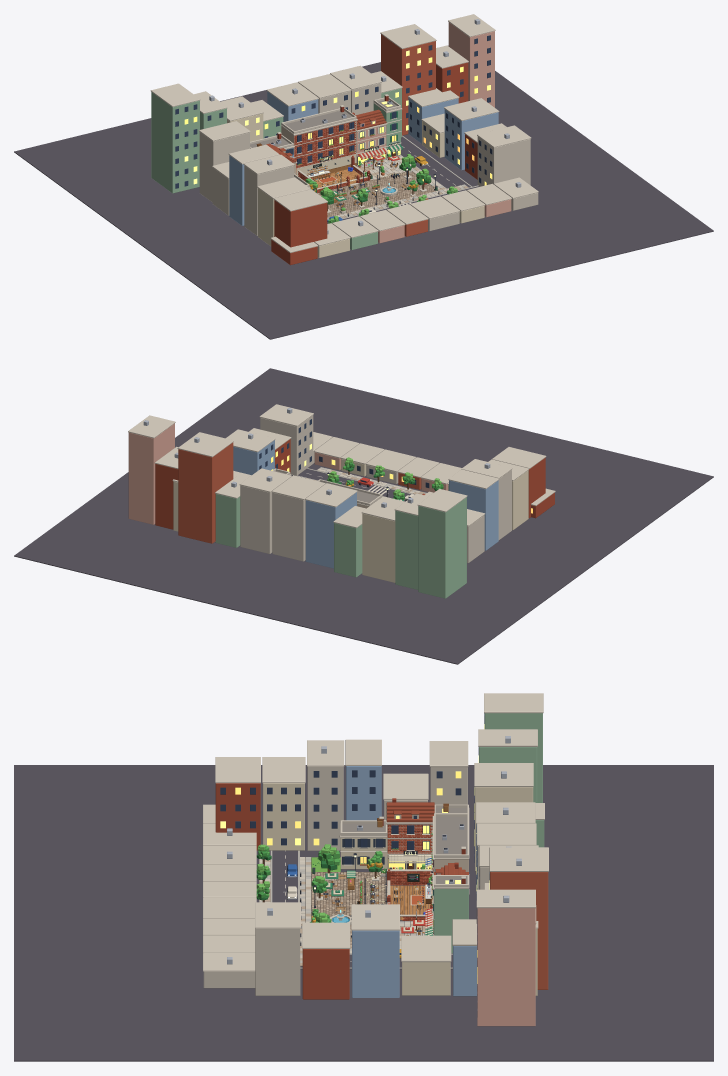
The picture shows the model from 3 angles, top to bottom: view 1: azimuth 30°, elevation 25°; view 2: azimuth 150°, elevation 25°; view 3: azimuth 270°, elevation 25°; orthographic projection. The views are drawn at different scales.
Parts seen in each view (by area): view 1: box_120_0.2_120_asphalt.001, box_7.40952_22.4_10_plaster_sage, box_9.20334_22.4_10_brick_c, box_6.86595_22.4_10_plaster_rose, box_7.71452_12.8_10_stone_trim, box_7.66719_12.8_10_brick_a, box_6.43437_16_10_stone_trim, box_8.15576_12.8_10_plaster_blue, box_6.21468_16_10_stone_trim, box_31_0.1_13_cobble_grout, box_6.07758_16_10_plaster_blue, box_6_0.1_41_asphalt (+30 smaller); view 2: box_120_0.2_120_asphalt.001, box_7.40952_22.4_10_plaster_sage, box_9.20334_22.4_10_brick_c, box_6.86595_22.4_10_plaster_rose, box_8.98924_16_10_plaster_cream, box_8.50156_16_10_stone_trim, box_8.16734_16_10_plaster_blue, box_8.05721_16_10_stone_trim, box_6.38129_19.2_10_plaster_sage, box_6.07758_16_10_plaster_blue, box_7.71452_12.8_10_stone_trim, box_6.12387_12.8_10_plaster_sage (+25 smaller); view 3: box_120_0.2_120_asphalt.001, box_6.86595_22.4_10_plaster_rose, box_8.15576_12.8_10_plaster_blue, box_7.71452_12.8_10_stone_trim, box_6.21468_16_10_stone_trim, box_8.03152_9.6_10_brick_a, box_7.25091_12.8_10_plaster_cream, box_9.20334_22.4_10_brick_c, box_7.66719_12.8_10_brick_a, box_6.07758_16_10_plaster_blue, box_8.37581_6.4_10_plaster_cream, box_9.40334_0.3_10.2_stone_trim (+36 smaller).
Part boxes in pixels (x1,y1,x2,y2): box_120_0.2_120_asphalt.001: (14,45,713,339); box_7.40952_22.4_10_plaster_sage: (151,92,199,193); box_9.20334_22.4_10_brick_c: (381,34,435,135); box_6.86595_22.4_10_plaster_rose: (448,22,494,107); box_7.71452_12.8_10_stone_trim: (477,136,530,186); box_7.66719_12.8_10_brick_a: (274,200,327,247); box_6.43437_16_10_stone_trim: (199,132,249,202); box_8.15576_12.8_10_plaster_blue: (444,109,498,170); box_6.21468_16_10_stone_trim: (244,165,293,235); box_31_0.1_13_cobble_grout: (319,171,437,216); box_6.07758_16_10_plaster_blue: (229,155,244,225); box_6_0.1_41_asphalt: (401,137,470,188); box_120_0.2_120_asphalt.001: (14,368,713,664); box_7.40952_22.4_10_plaster_sage: (418,497,466,598); box_9.20334_22.4_10_brick_c: (178,442,233,543); box_6.86595_22.4_10_plaster_rose: (128,423,174,524); box_8.98924_16_10_plaster_cream: (362,513,395,582); box_8.50156_16_10_stone_trim: (272,492,305,561); box_8.16734_16_10_plaster_blue: (305,492,356,568); box_8.05721_16_10_stone_trim: (240,485,272,553); box_6.38129_19.2_10_plaster_sage: (395,510,418,589); box_6.07758_16_10_plaster_blue: (449,480,498,550); box_7.71452_12.8_10_stone_trim: (260,415,313,475); box_6.12387_12.8_10_plaster_sage: (334,523,362,577); box_120_0.2_120_asphalt.001: (14,765,713,1061); box_6.86595_22.4_10_plaster_rose: (477,908,535,1026); box_8.15576_12.8_10_plaster_blue: (352,930,399,997); box_7.71452_12.8_10_stone_trim: (255,928,300,995); box_6.21468_16_10_stone_trim: (307,766,343,850); box_8.03152_9.6_10_brick_a: (302,949,349,999); box_7.25091_12.8_10_plaster_cream: (263,783,304,850); box_9.20334_22.4_10_brick_c: (490,872,548,989); box_7.66719_12.8_10_brick_a: (215,783,260,850); box_6.07758_16_10_plaster_blue: (346,766,381,820); box_8.37581_6.4_10_plaster_cream: (402,962,450,995); box_9.40334_0.3_10.2_stone_trim: (489,847,548,871).
Bounding box in the file's own units: 120 × 24.15 × 120.
